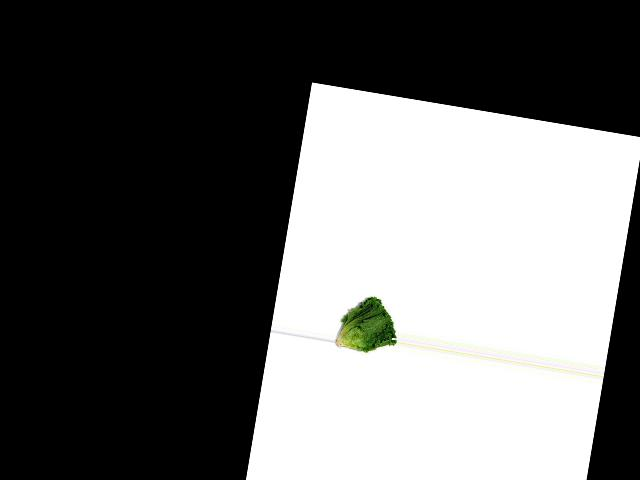lettuce: (332, 286, 403, 361)
